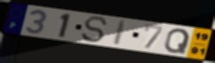1: (57, 12, 73, 39)
3: (25, 9, 49, 36)
7: (143, 23, 165, 50)
I: (112, 19, 129, 47)
Q: (163, 28, 192, 54)
S: (80, 15, 109, 44)
